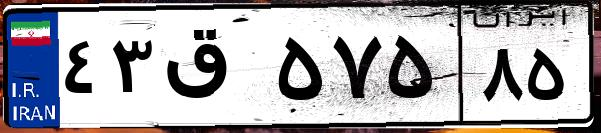3: (110, 28, 158, 98)
4: (57, 26, 110, 100)
5: (270, 28, 330, 110), (385, 28, 445, 110), (525, 38, 570, 115)
7: (330, 28, 385, 110)
8: (475, 38, 525, 113)
ق: (158, 20, 270, 120)
